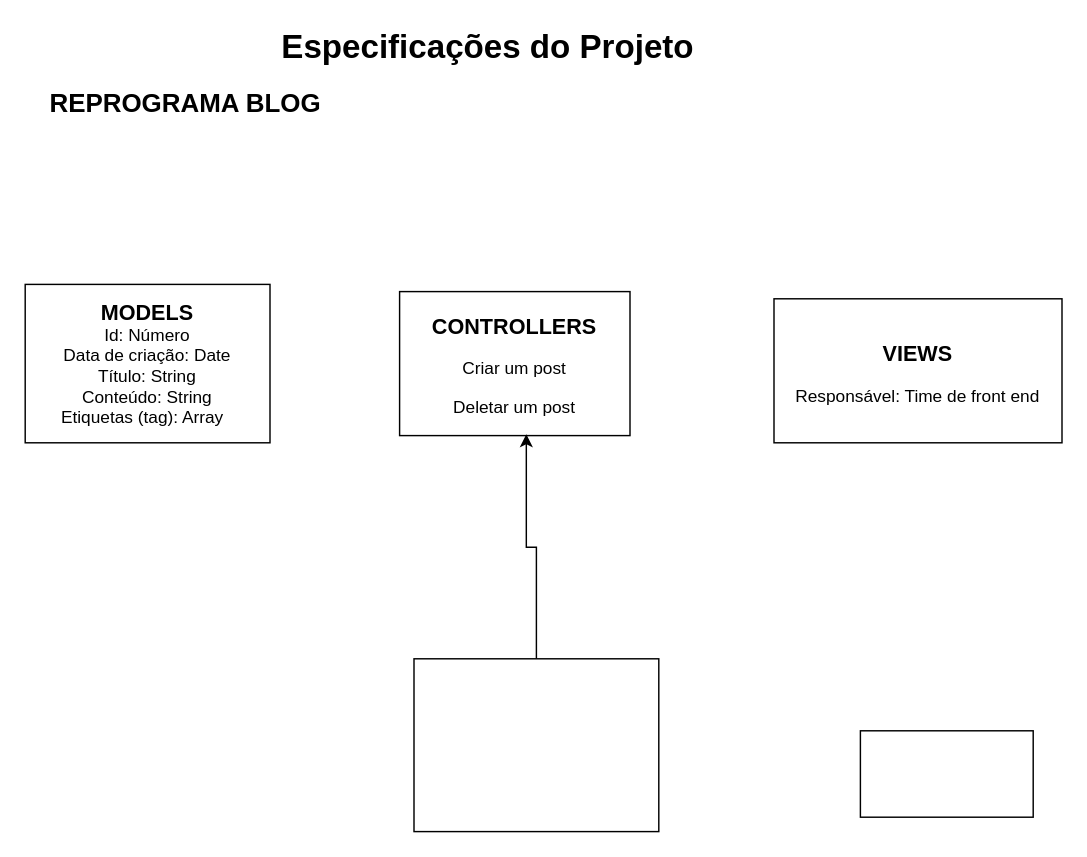
This 1087x857 diagram has some shape labels left out. The shapes that lost their labels are listed below. From the top down, each one's centre as x and y in pixels, then its label:
the point at 536,744: ROUTERS Criar um post: POST Deletar um post: DELETE
the point at 946,773: HELPERS
